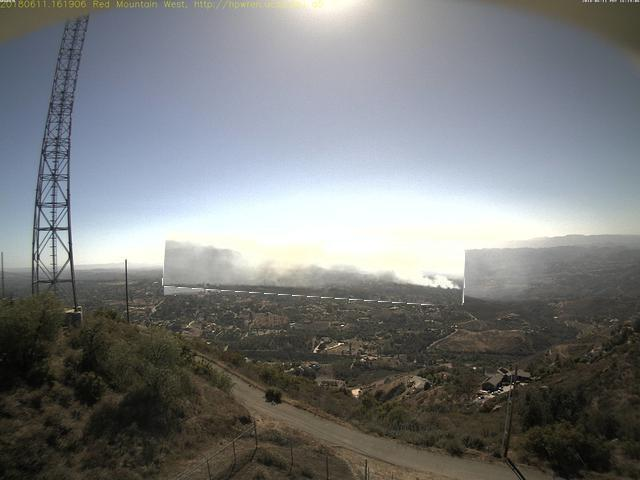smoke: (164, 237, 467, 302)
